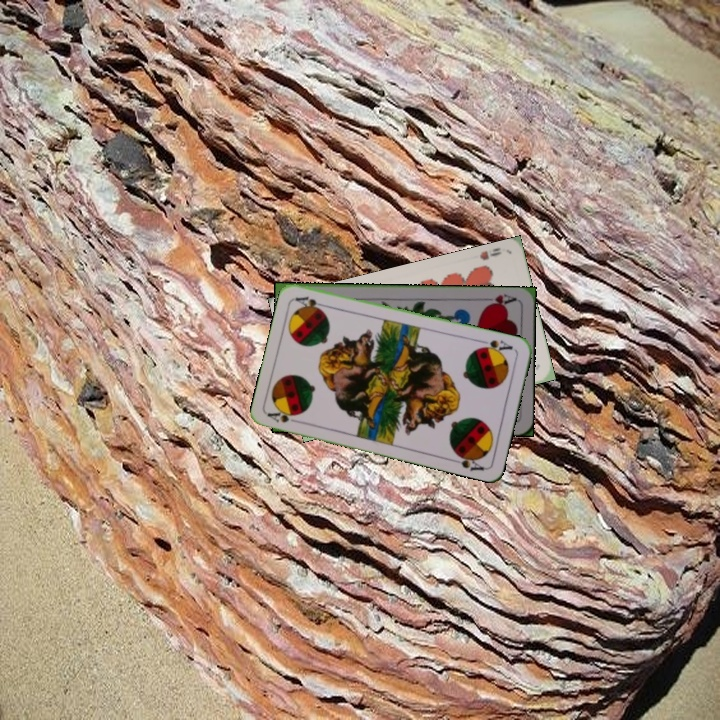H9: (476, 244, 504, 263)
HA: (478, 290, 519, 310)
SA: (264, 405, 305, 426), (475, 336, 515, 356)
